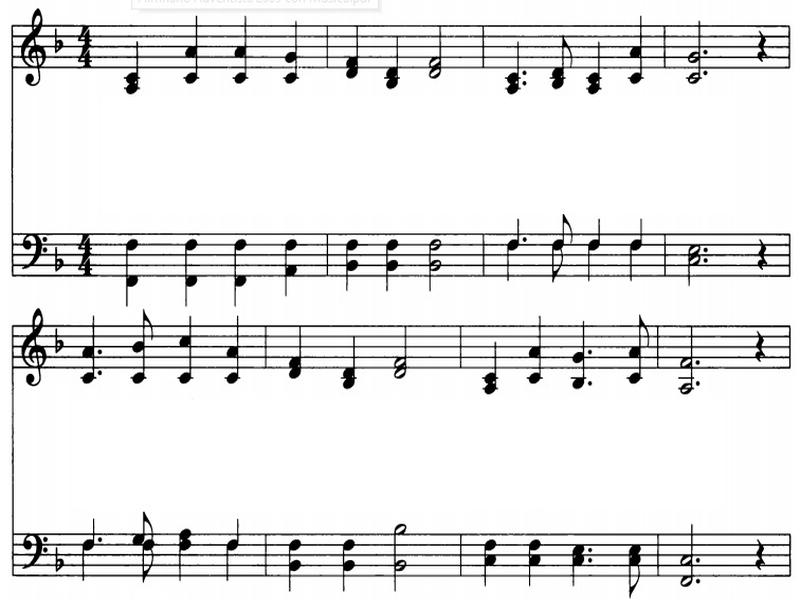B: (421, 224, 452, 294), (386, 517, 414, 589), (427, 18, 456, 85), (388, 322, 417, 382), (679, 230, 704, 294), (684, 14, 705, 84), (678, 328, 698, 401), (682, 522, 701, 584)
Bem: (49, 329, 75, 354), (47, 29, 68, 56), (50, 549, 67, 576), (52, 246, 67, 274)
C: (127, 312, 162, 384), (622, 316, 654, 390), (621, 536, 654, 594), (546, 34, 577, 88), (136, 541, 166, 586), (545, 212, 578, 248), (129, 510, 163, 543), (548, 235, 567, 285)
CF: (15, 225, 49, 281), (16, 533, 50, 581)
CS: (14, 301, 50, 397), (15, 5, 47, 91)
N: (324, 326, 369, 392), (222, 313, 255, 394), (170, 312, 203, 386), (473, 334, 508, 401), (622, 14, 654, 85), (524, 311, 550, 398), (181, 8, 207, 91), (120, 33, 151, 102), (490, 30, 522, 96), (168, 528, 201, 584), (227, 14, 251, 90), (119, 229, 144, 301), (176, 233, 202, 299), (585, 37, 612, 100), (283, 16, 308, 84), (214, 539, 250, 585), (378, 31, 405, 91), (277, 233, 305, 290), (227, 236, 251, 301), (340, 22, 367, 79), (378, 235, 404, 294), (338, 534, 365, 589), (79, 310, 97, 389), (283, 323, 307, 381), (477, 537, 504, 585), (523, 533, 545, 588), (581, 237, 606, 285), (284, 532, 304, 592), (337, 239, 363, 285), (582, 212, 608, 250), (625, 214, 650, 251), (224, 513, 247, 553), (626, 237, 648, 275), (77, 508, 97, 548), (569, 537, 587, 581), (500, 237, 517, 279), (81, 537, 93, 581), (507, 216, 522, 248)
P: (584, 372, 596, 393), (521, 79, 533, 97), (701, 64, 713, 81), (96, 369, 110, 383), (692, 572, 705, 587), (519, 237, 534, 249), (97, 534, 108, 548), (695, 377, 705, 392), (585, 348, 597, 360), (694, 555, 705, 567), (700, 47, 710, 60), (587, 559, 598, 567), (698, 257, 707, 266), (692, 360, 703, 367), (702, 245, 710, 254), (587, 547, 594, 555), (97, 350, 106, 356), (523, 70, 528, 79)
SN: (741, 324, 777, 364), (747, 538, 773, 572), (750, 29, 771, 64), (754, 237, 769, 271)
